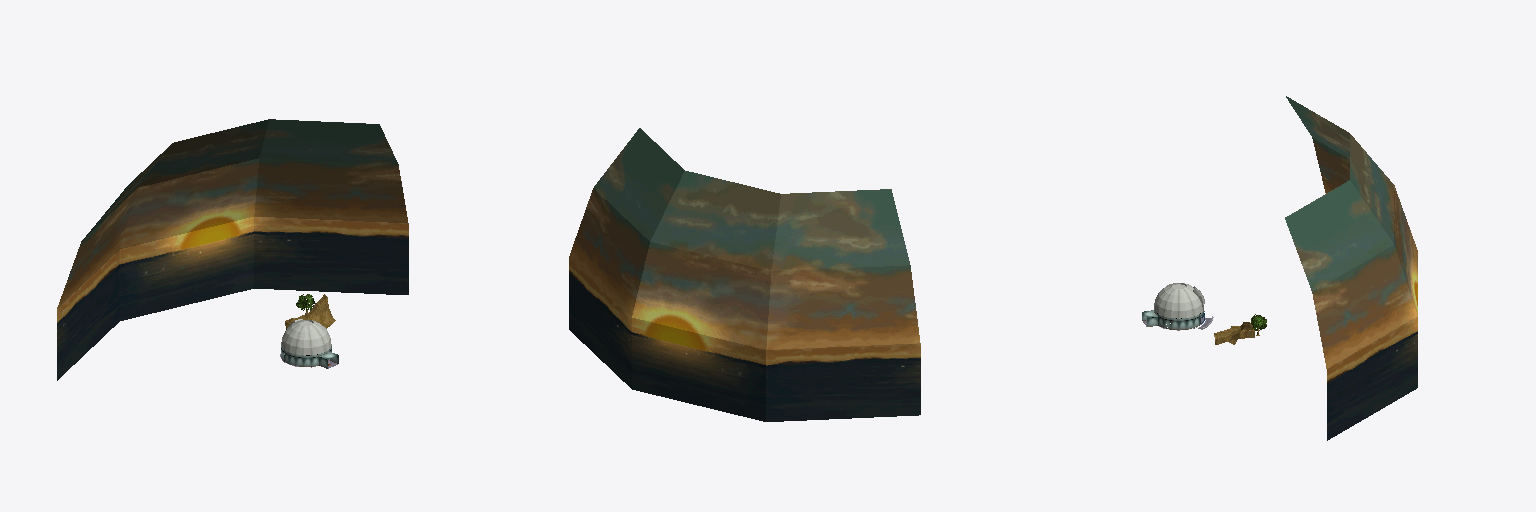
3 views of the same model, side by side, from view 1: azimuth 30°, elevation 25°; view 2: azimuth 150°, elevation 25°; view 3: azimuth 270°, elevation 25° (orthographic).
Visible parts, largest first — view 1: SpringfieldObservatory; view 2: SpringfieldObservatory; view 3: SpringfieldObservatory.
Part boxes in pixels (x1,y1,x2,y2): SpringfieldObservatory: (57, 119, 408, 380); SpringfieldObservatory: (569, 128, 920, 421); SpringfieldObservatory: (1142, 96, 1417, 440).
Bounding box in the file's own units: 160 × 86.35 × 108.
Materials: 35 (32 with a texture image).